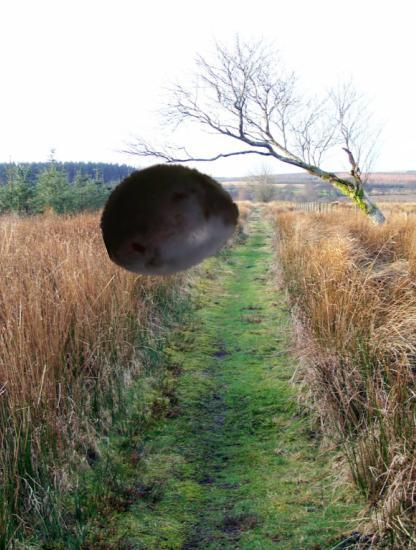Plum: (100, 149, 238, 287)
